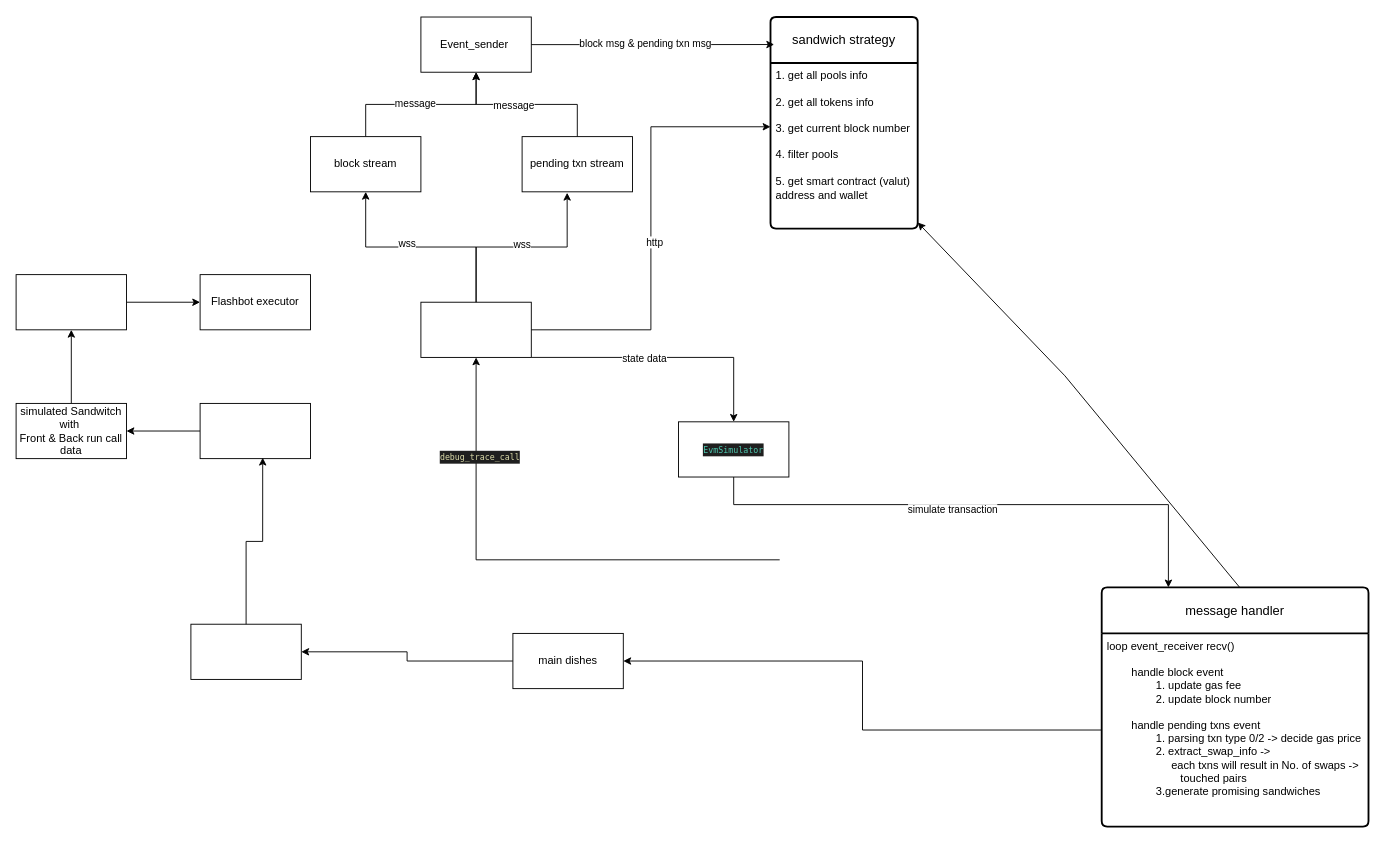
Image size: 1386x843. Some labels were removed from this diagram. The shapes that lost their labels are listed below. From the top down, each one's centre as x and y in pixels, then its label:
[70,302]: make bundles
[475,329]: eth node
[254,430]: try batch sandwiches
[245,651]: plate (lots of sandwiches)
